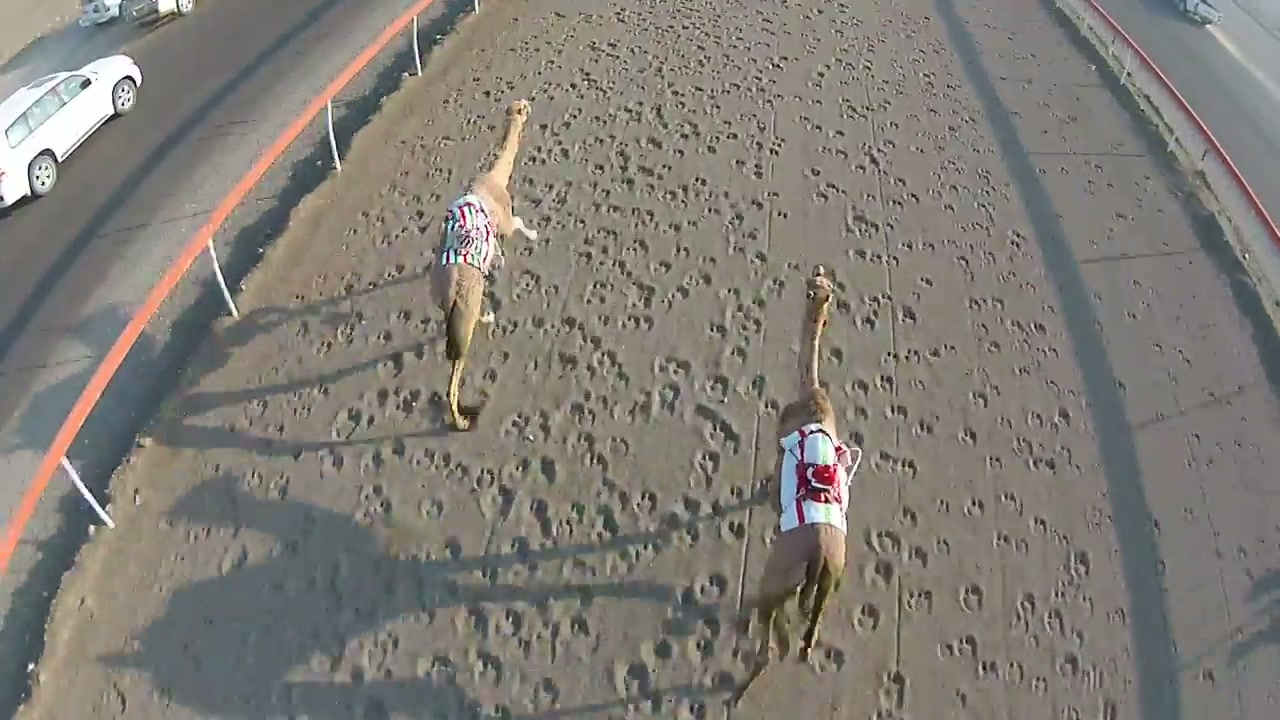animal_foot_print: (331, 26, 660, 677), (193, 24, 560, 526), (549, 36, 789, 688), (824, 15, 922, 680)
